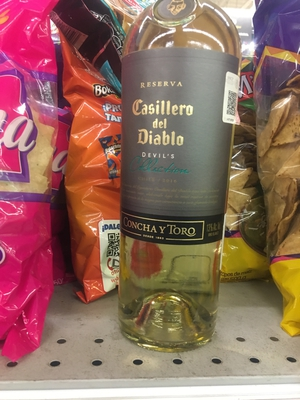casillero del diablo devils collection verde: (106, 13, 247, 339)
